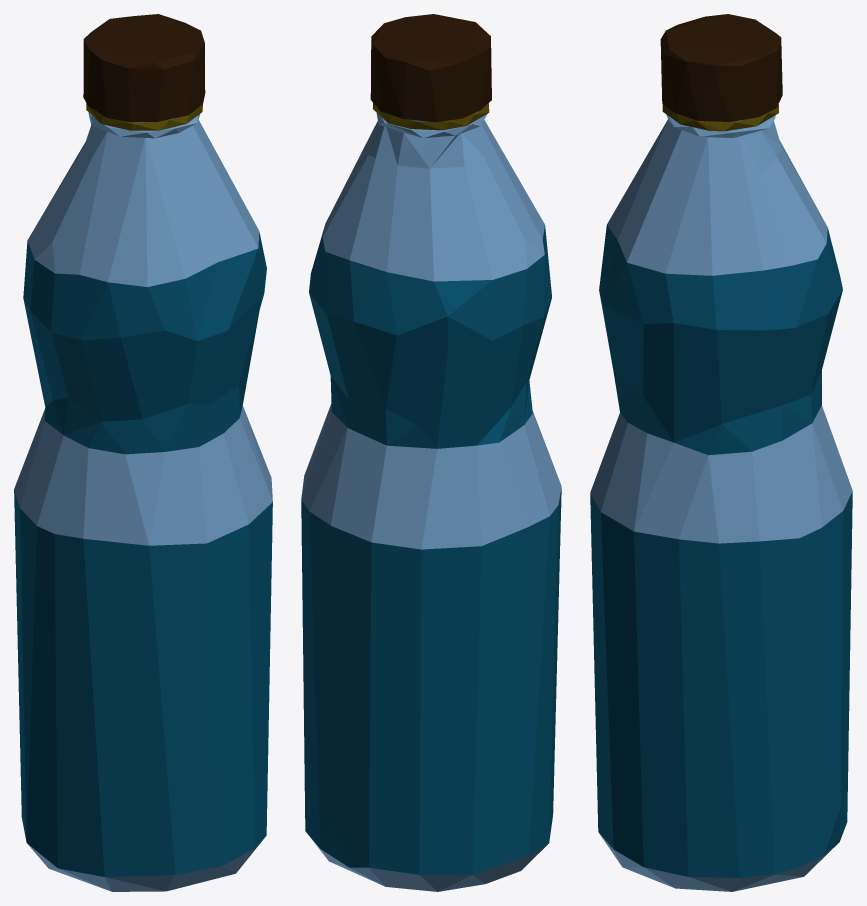
Rendered from PlasticBottle02.fbx.
3 renders of one model, left to right at view 1: azimuth 30°, elevation 25°; view 2: azimuth 150°, elevation 25°; view 3: azimuth 270°, elevation 25°, orthographic.
Visible parts, largest first — view 1: PlasticBottle02LowPoly, PlasticBottleLid02LowPoly; view 2: PlasticBottle02LowPoly, PlasticBottleLid02LowPoly; view 3: PlasticBottle02LowPoly, PlasticBottleLid02LowPoly.
Part boxes in pixels (x1,y1,x2,y2): PlasticBottle02LowPoly: (14, 112, 272, 891); PlasticBottleLid02LowPoly: (83, 14, 205, 130); PlasticBottle02LowPoly: (301, 111, 561, 891); PlasticBottleLid02LowPoly: (370, 14, 491, 130); PlasticBottle02LowPoly: (590, 114, 852, 891); PlasticBottleLid02LowPoly: (660, 14, 782, 131).
Bounding box in the file's own units: 9.13 × 31.26 × 9.17.
